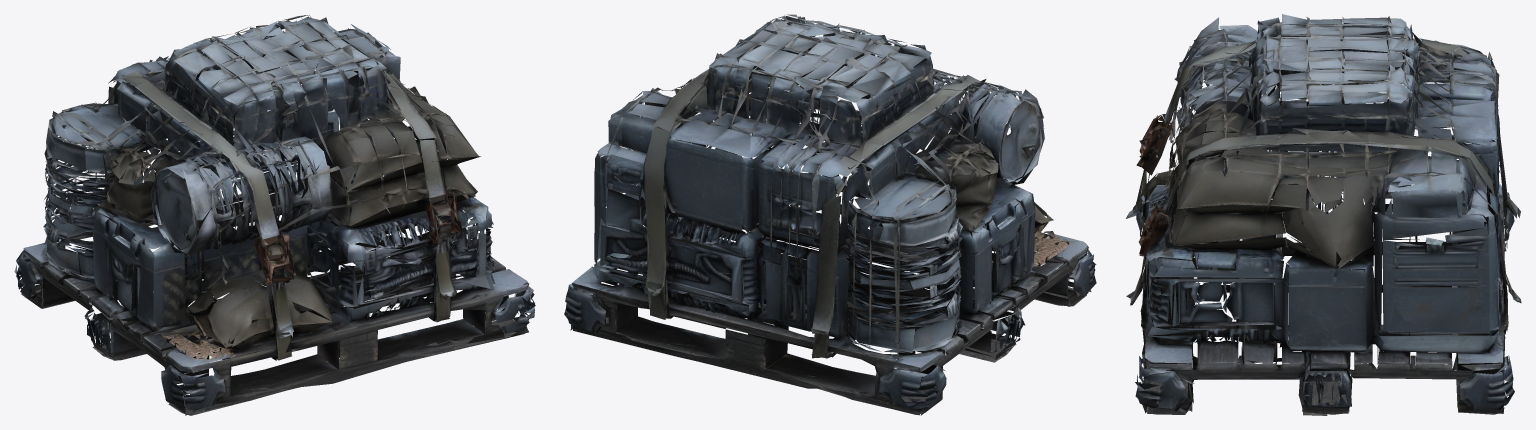
The model's file is life_cargo_pallet_netted.glb.
3 views of the same model, side by side, from view 1: azimuth 30°, elevation 25°; view 2: azimuth 150°, elevation 25°; view 3: azimuth 270°, elevation 25° (orthographic). The views are drawn at different scales.
Parts seen in each view (by area): view 1: node_0; view 2: node_0; view 3: node_0.
Boxes of the visible parts, x1,y1,x2,y2 form: node_0: [14, 15, 535, 415]; node_0: [564, 14, 1096, 415]; node_0: [1126, 14, 1521, 415].
Size of the model in its own units: 0.8755 by 0.5951 by 0.7577.
Materials: 1 (1 with a texture image).
